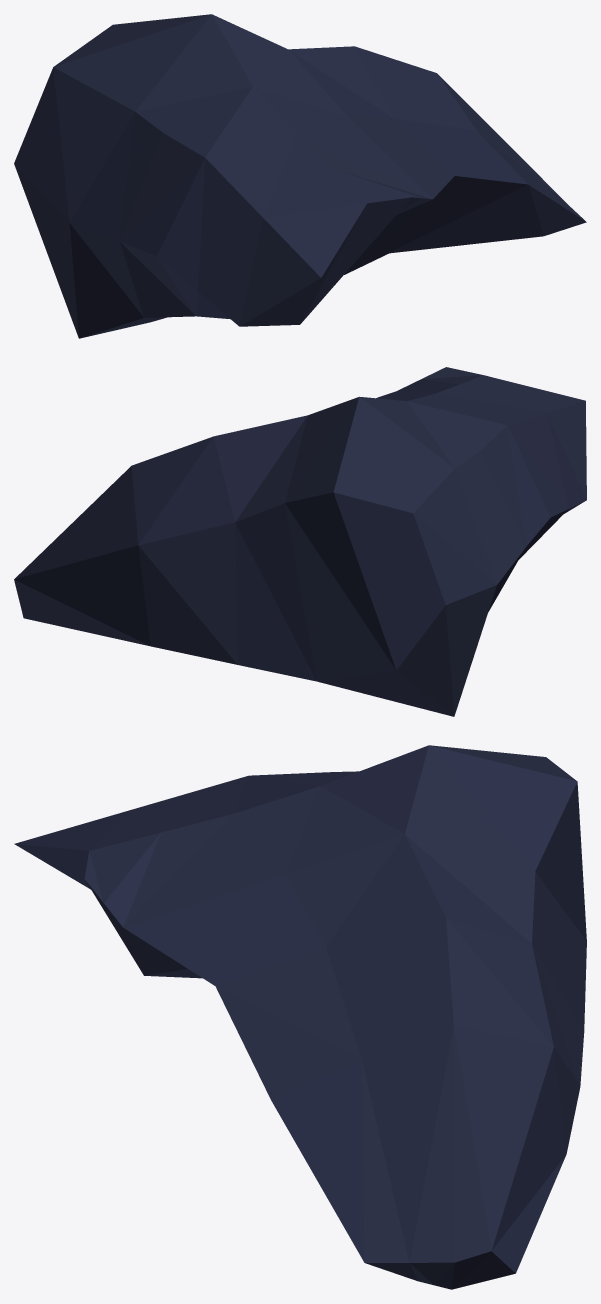
File: Smoothstone 5.fbx
3 renders of one model, top to bottom at view 1: azimuth 30°, elevation 25°; view 2: azimuth 150°, elevation 25°; view 3: azimuth 270°, elevation 25°, orthographic. The views are drawn at different scales.
Parts seen in each view (by area): view 1: Smoothstone Size 5; view 2: Smoothstone Size 5; view 3: Smoothstone Size 5.
Boxes of the visible parts, x1=… form: Smoothstone Size 5: x1=14, y1=14, x2=586, y2=338; Smoothstone Size 5: x1=14, y1=367, x2=586, y2=716; Smoothstone Size 5: x1=14, y1=745, x2=586, y2=1289.
Bounding box in the file's own units: 958 × 564 × 816.
